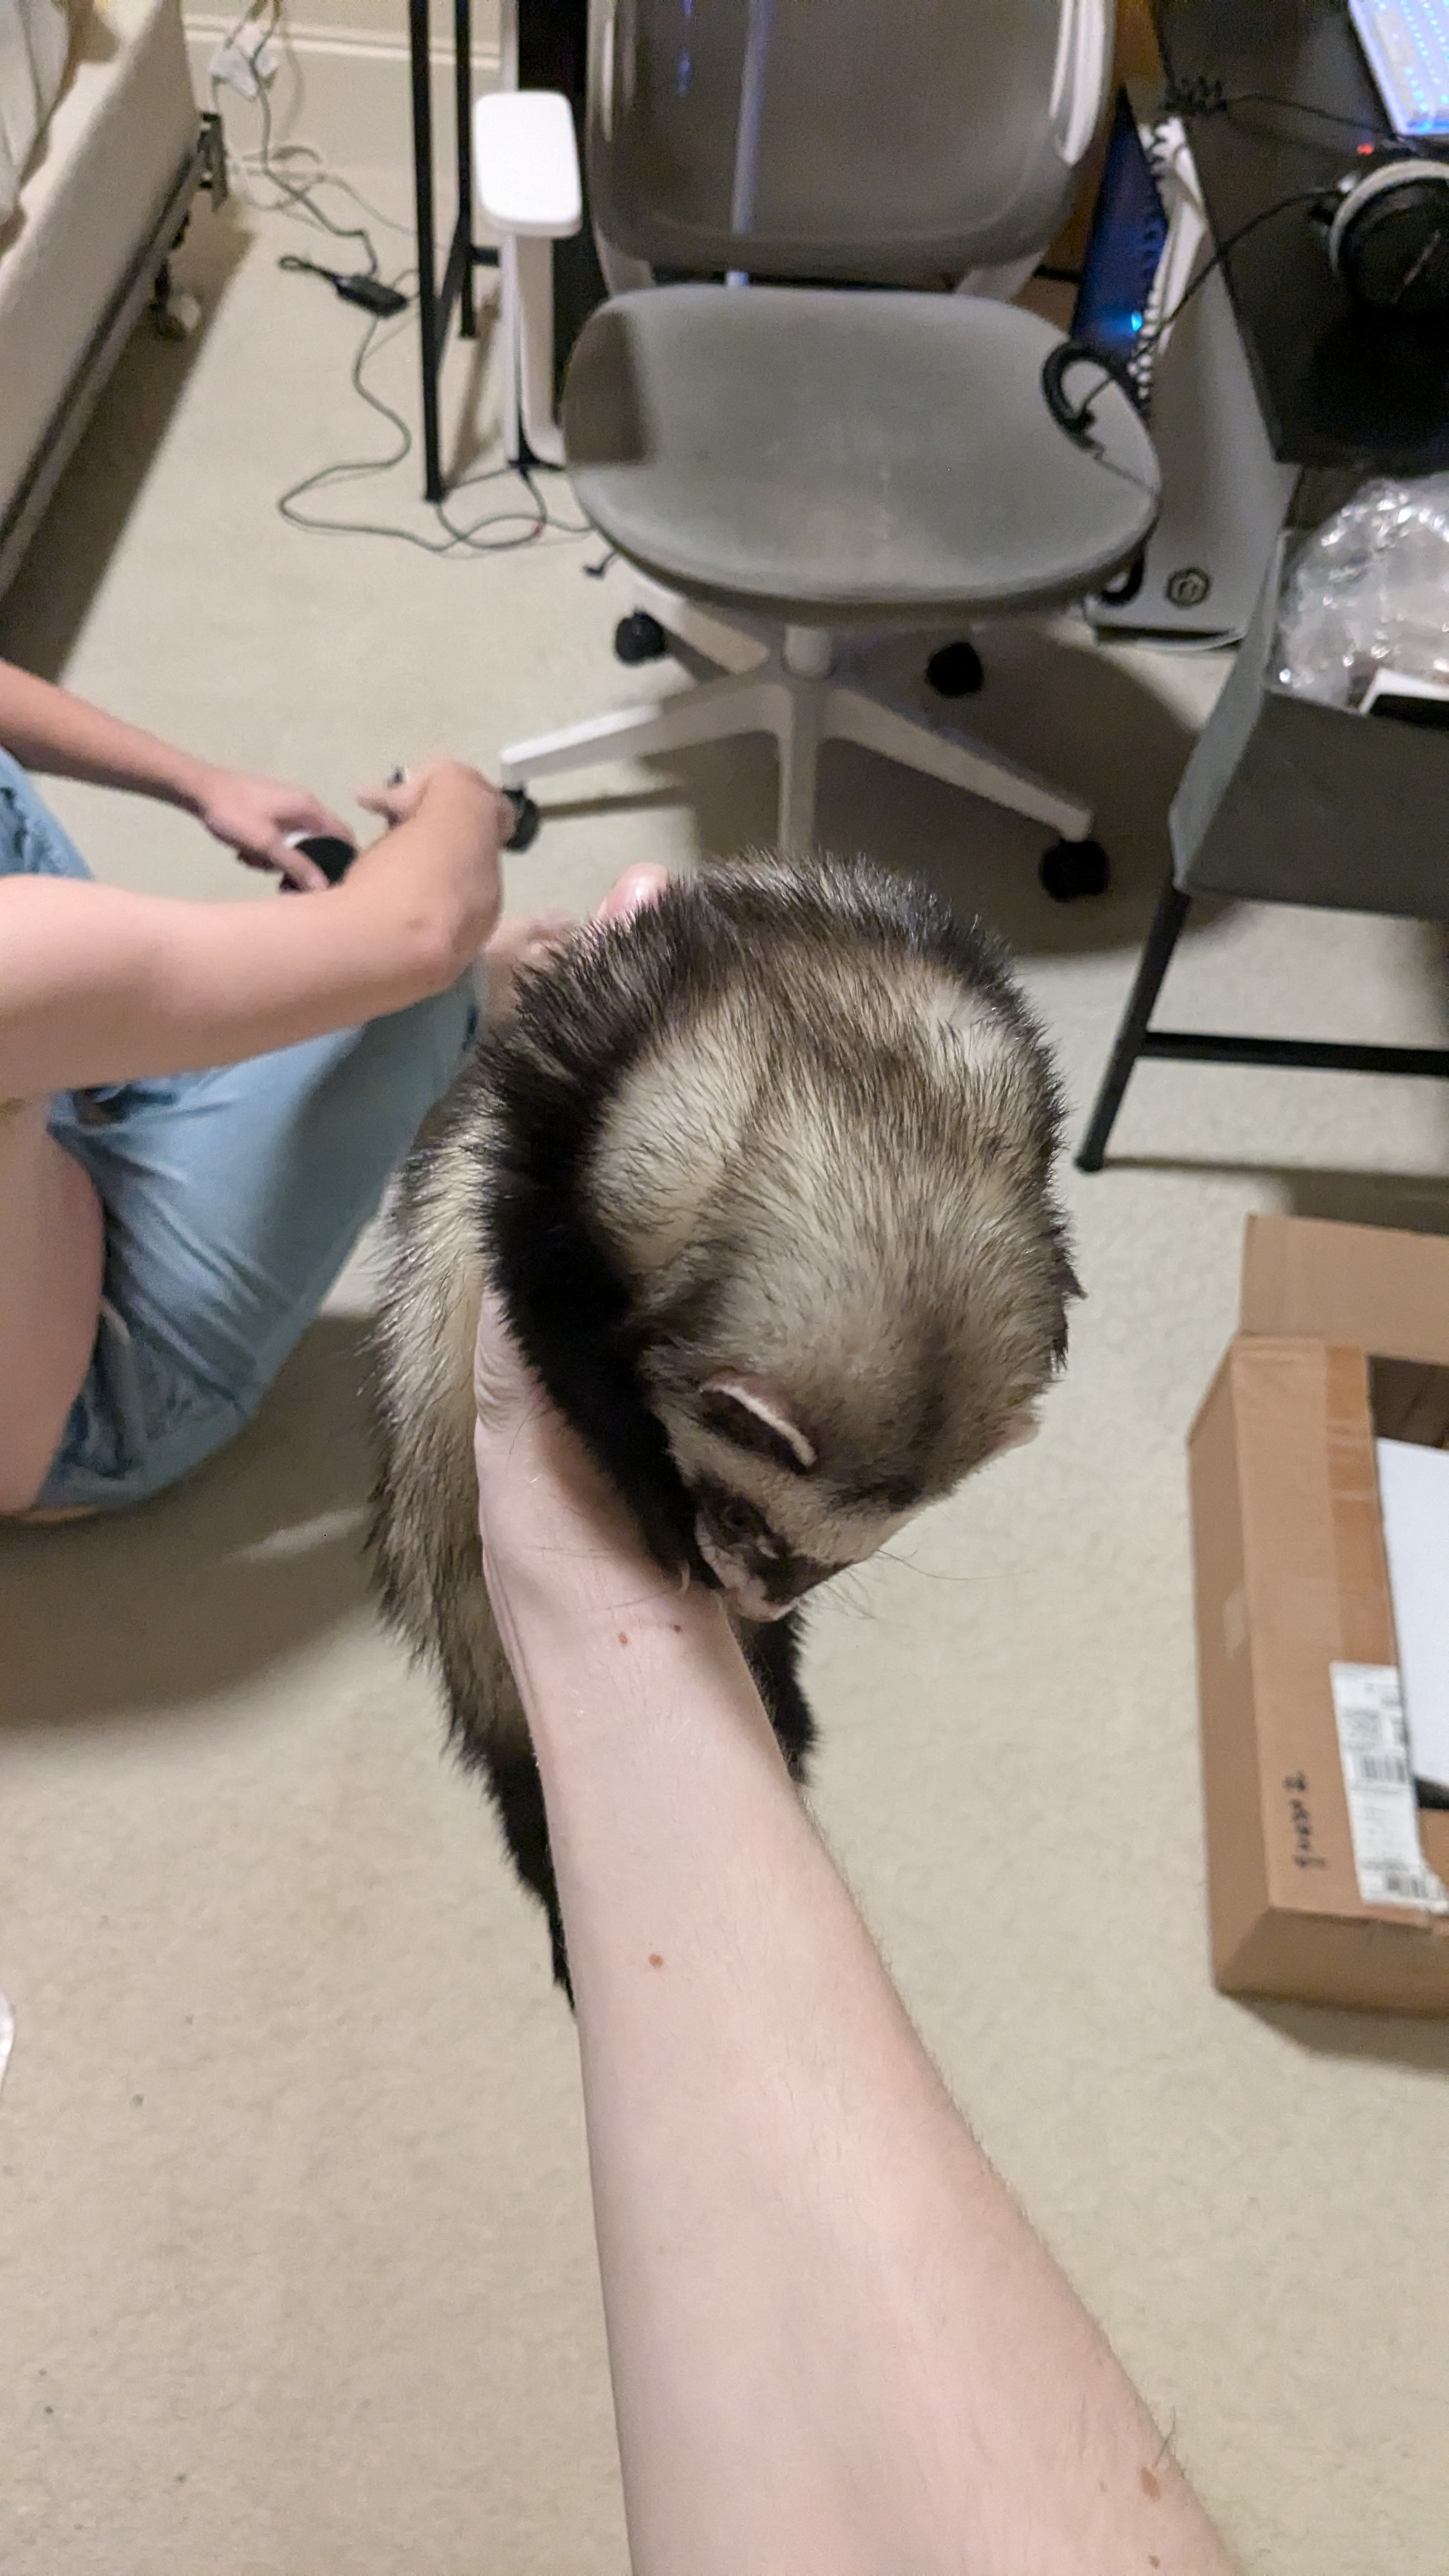Talulah: (370, 893, 1095, 1987)
